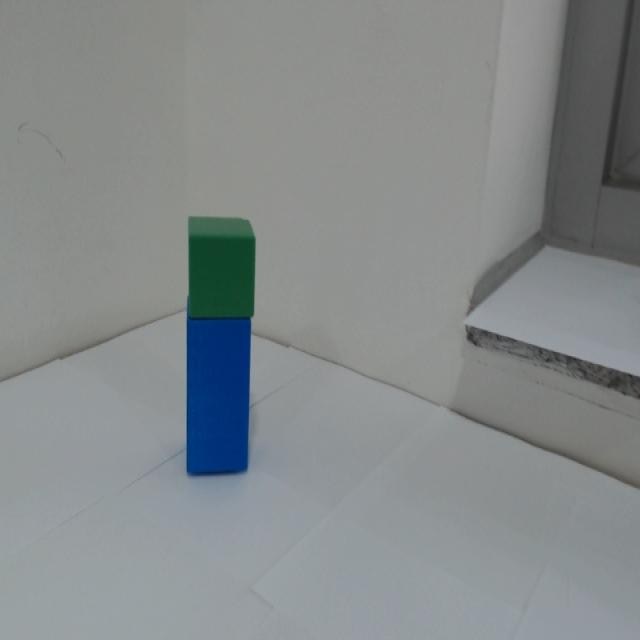cube: (177, 325, 261, 486), (186, 213, 261, 323)
